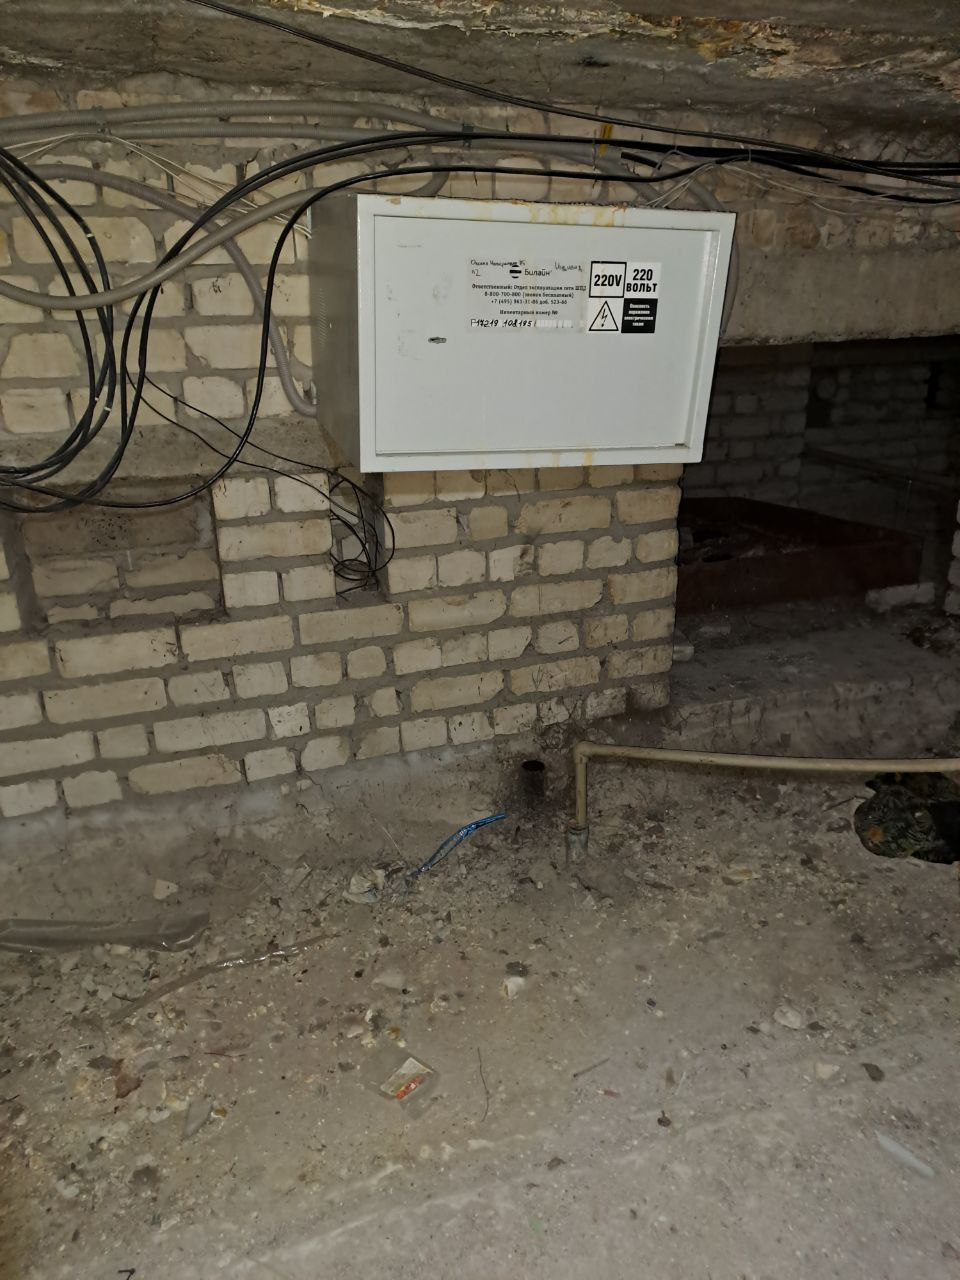shta-7m: (302, 190, 739, 474)
